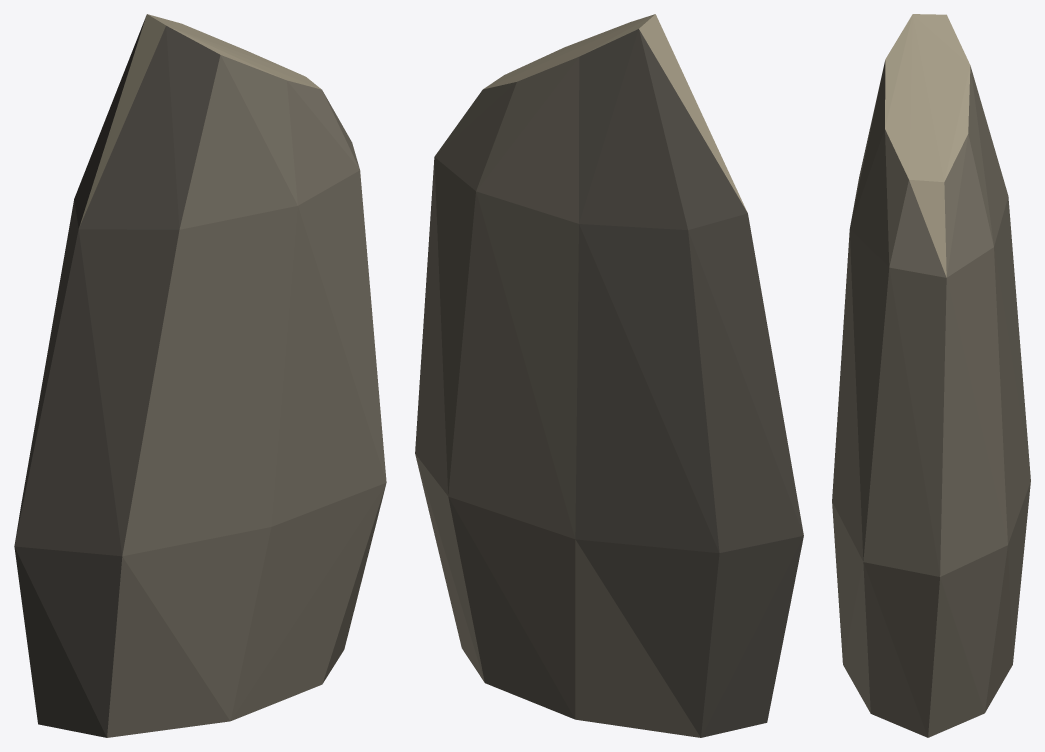
The model's file is TW_ROCK_UPRIGHT_B_LOD0.glb.
3 views of the same model, side by side, from view 1: azimuth 30°, elevation 25°; view 2: azimuth 150°, elevation 25°; view 3: azimuth 270°, elevation 25° (orthographic). The views are drawn at different scales.
Parts seen in each view (by area): view 1: TW_ROCK_UPRIGHT_B_LOD0; view 2: TW_ROCK_UPRIGHT_B_LOD0; view 3: TW_ROCK_UPRIGHT_B_LOD0.
Boxes of the visible parts, box(x1,y1,x2,y2) form: TW_ROCK_UPRIGHT_B_LOD0: box(14, 14, 386, 737); TW_ROCK_UPRIGHT_B_LOD0: box(415, 14, 803, 737); TW_ROCK_UPRIGHT_B_LOD0: box(832, 14, 1030, 737).
Bounding box in the file's own units: 1.08 × 1.85 × 0.5215.
Materials: 1 (1 with a texture image).
